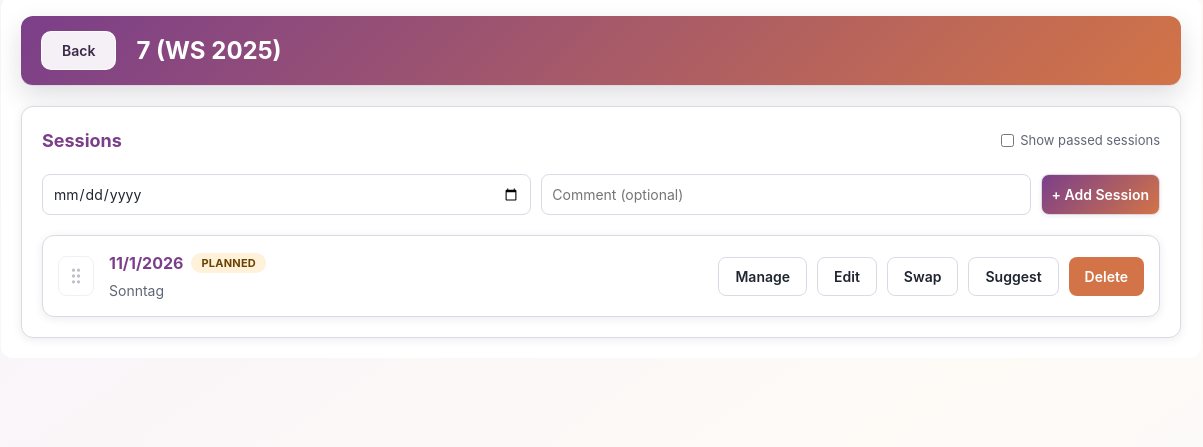
Test: CourseDetail › cancels keyboard dragging without saving
The width and height of the screenshot is (1203, 447).
Check: the button named "Move contents of session" is shown, box [58,256,94,296]
Click the checkbox labelled "Show passed sessions".
click(1008, 140)  # box [1001,134,1014,147]
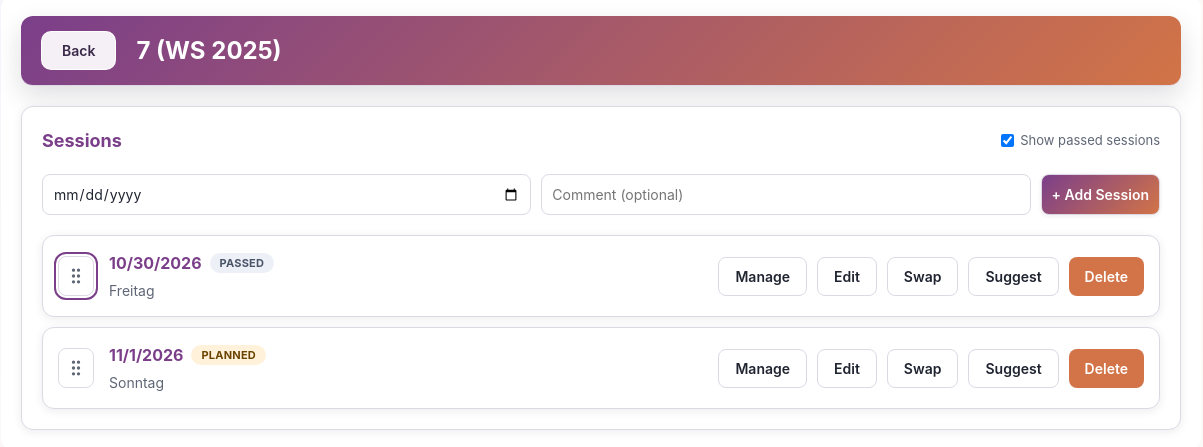
Press Space in the button named "Move contents of session", box [58,256,94,296]
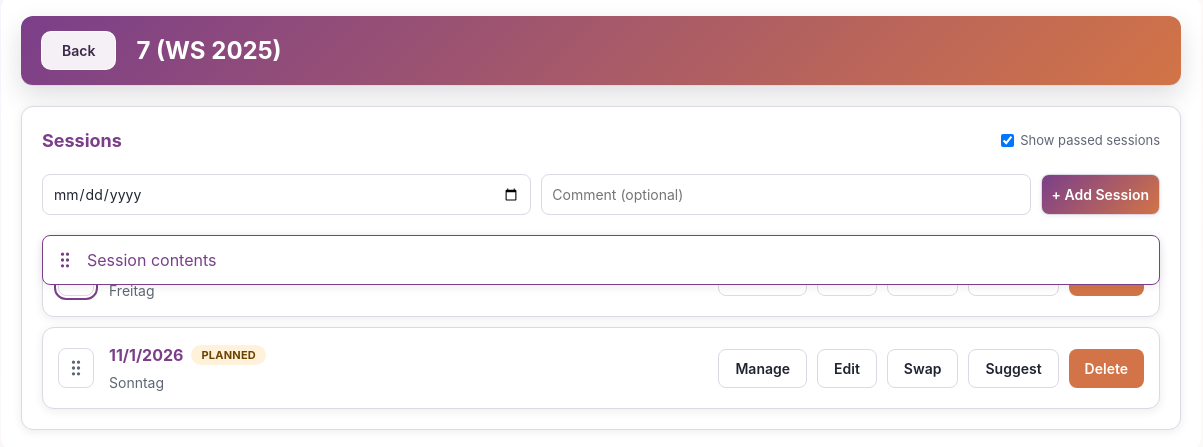
Check: the text "Session contents" is shown, box [87,248,216,272]
Press Escape
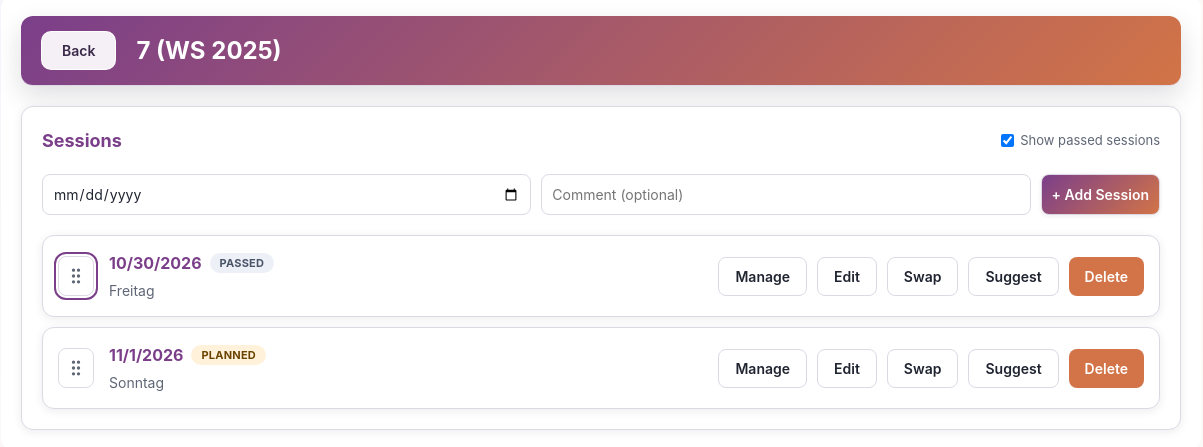
Check: the text "Session contents" is gone
